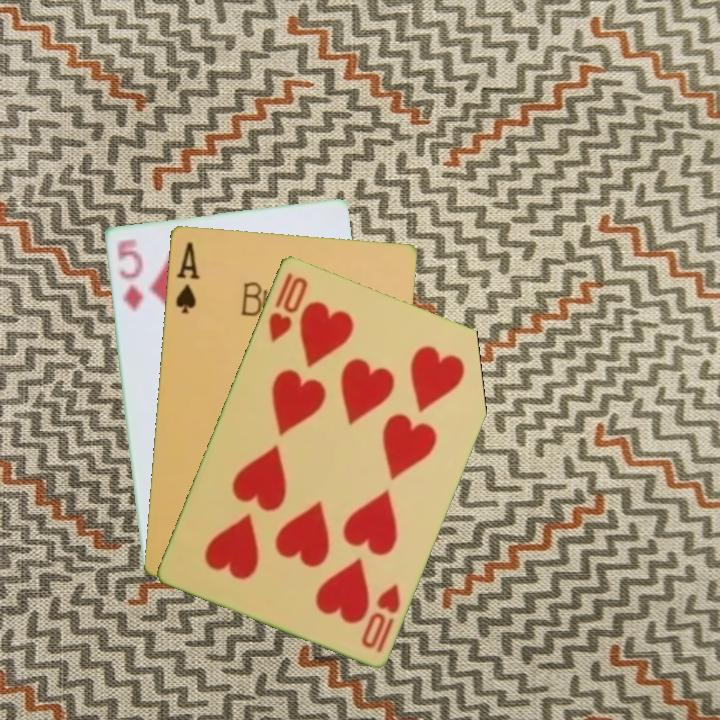10h: (264, 268, 311, 345), (357, 580, 403, 655)
5d: (113, 235, 145, 315)
As: (171, 238, 202, 317)
